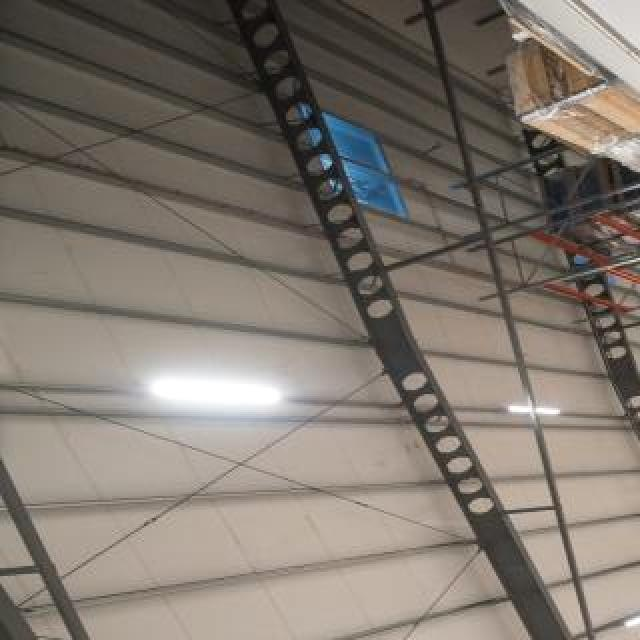fluorescent tube: (129, 369, 300, 413), (493, 391, 589, 434), (586, 596, 640, 640)
